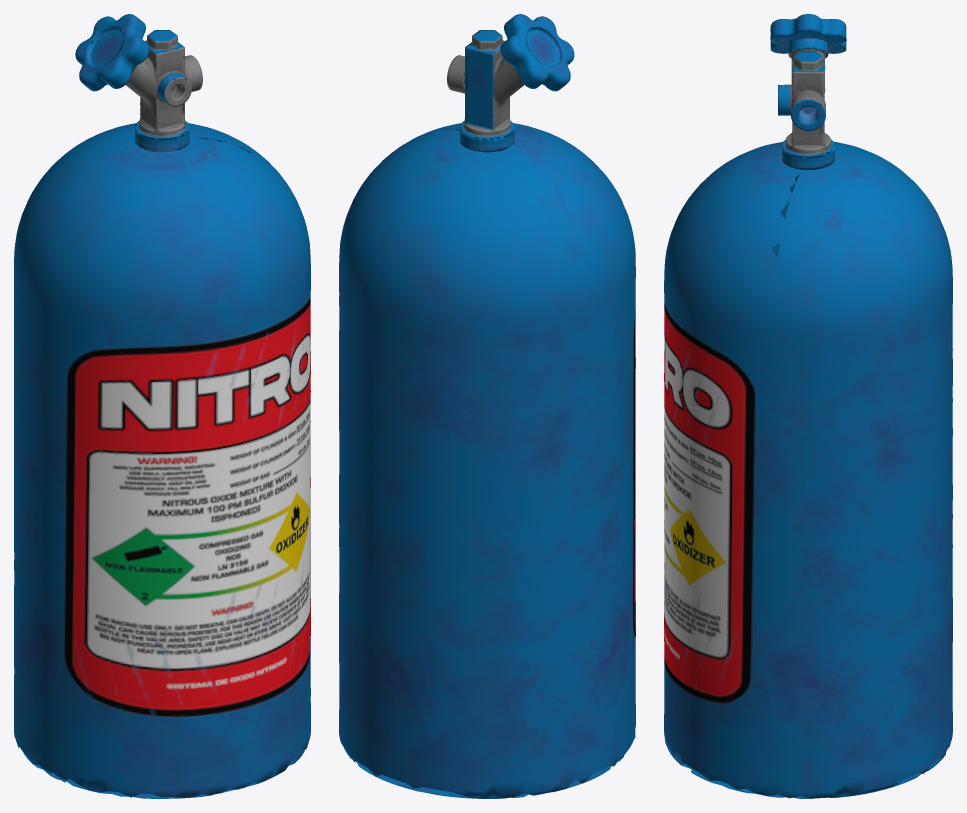
Rendered from nitro-m.glb.
3 renders of one model, left to right at view 1: azimuth 30°, elevation 25°; view 2: azimuth 150°, elevation 25°; view 3: azimuth 270°, elevation 25°, orthographic. The views are drawn at different scales.
Visible parts, largest first — view 1: Object_3, Object_2; view 2: Object_3, Object_2; view 3: Object_3, Object_2.
Part boxes in pixels (x1,y1,x2,y2): Object_3: [14, 123, 310, 798]; Object_2: [75, 14, 202, 152]; Object_3: [339, 123, 635, 798]; Object_2: [447, 14, 574, 151]; Object_3: [664, 141, 952, 798]; Object_2: [770, 14, 846, 168].
Size of the model in its own units: 1.61 by 4.37 by 1.61.
Materials: 1 (1 with a texture image).
